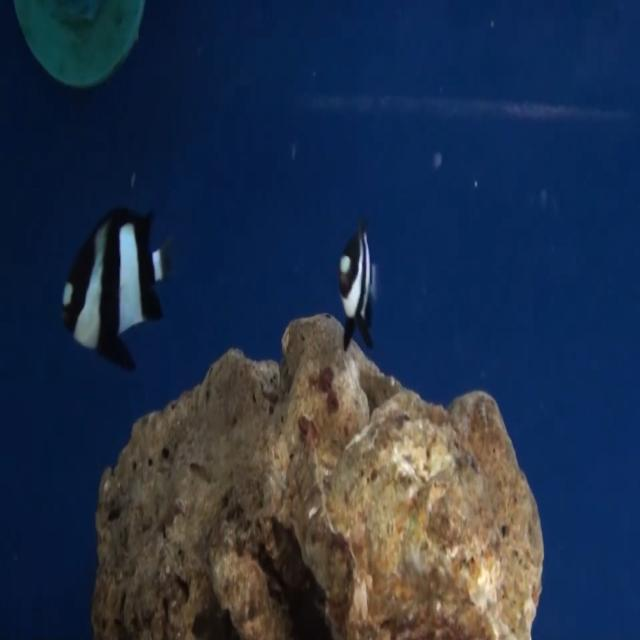ThreeStripedDamselfish: (61, 209, 170, 372), (338, 223, 375, 351)
